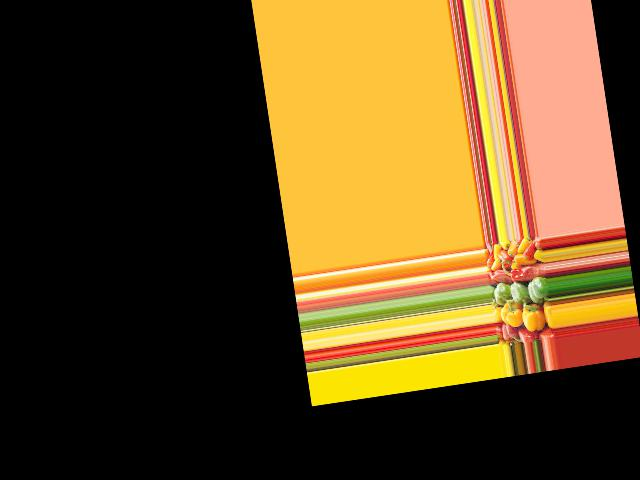bell_pepper: (520, 239, 539, 260)
